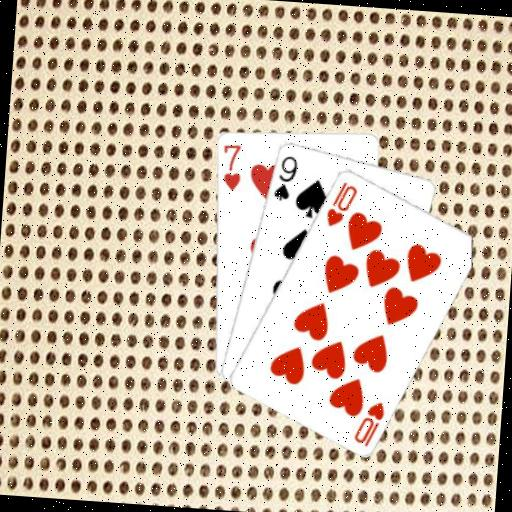10H: (323, 177, 360, 230), (350, 396, 387, 449)
7H: (217, 140, 244, 192)
9S: (270, 152, 300, 204)
